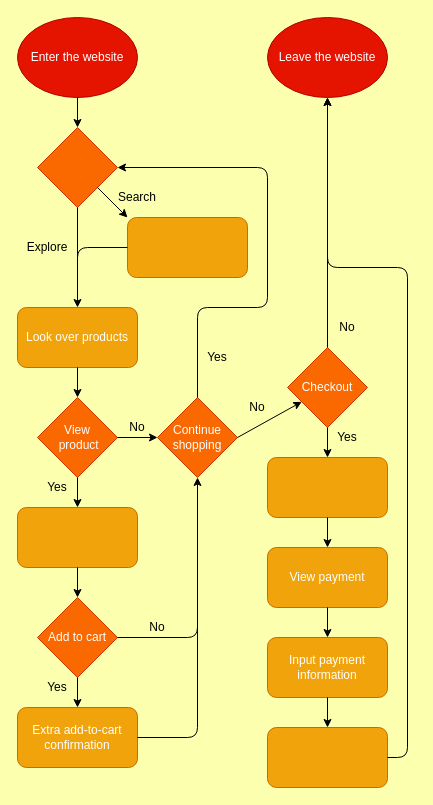
The diagram is 433 pixels wide and 805 high, and some of its shapes have lost their labels. The shapes that lost their labels are listed below. From the top down, each one's centre as x and y in pixels, then its label:
At (x=77, y=167): "Search or explore".
At (x=187, y=247): "Provide specific search terms".
At (x=327, y=487): "View cart".
At (x=77, y=537): "Product webpage opens".
At (x=327, y=757): "Order confirmation screen and email confirmation".
